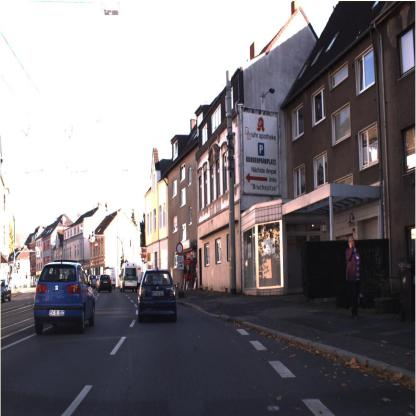prohibitory: (174, 240, 185, 256)
